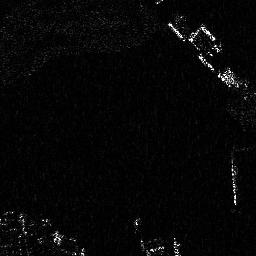ship: (229, 163, 239, 205)
